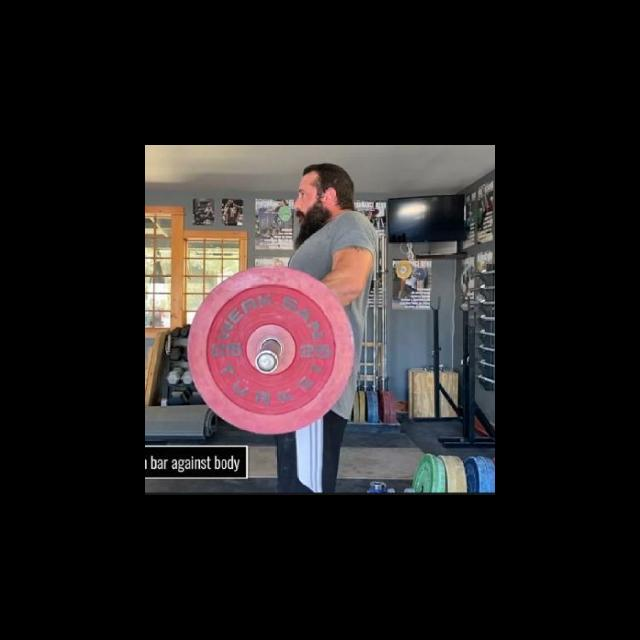barbell: (185, 262, 358, 440)
